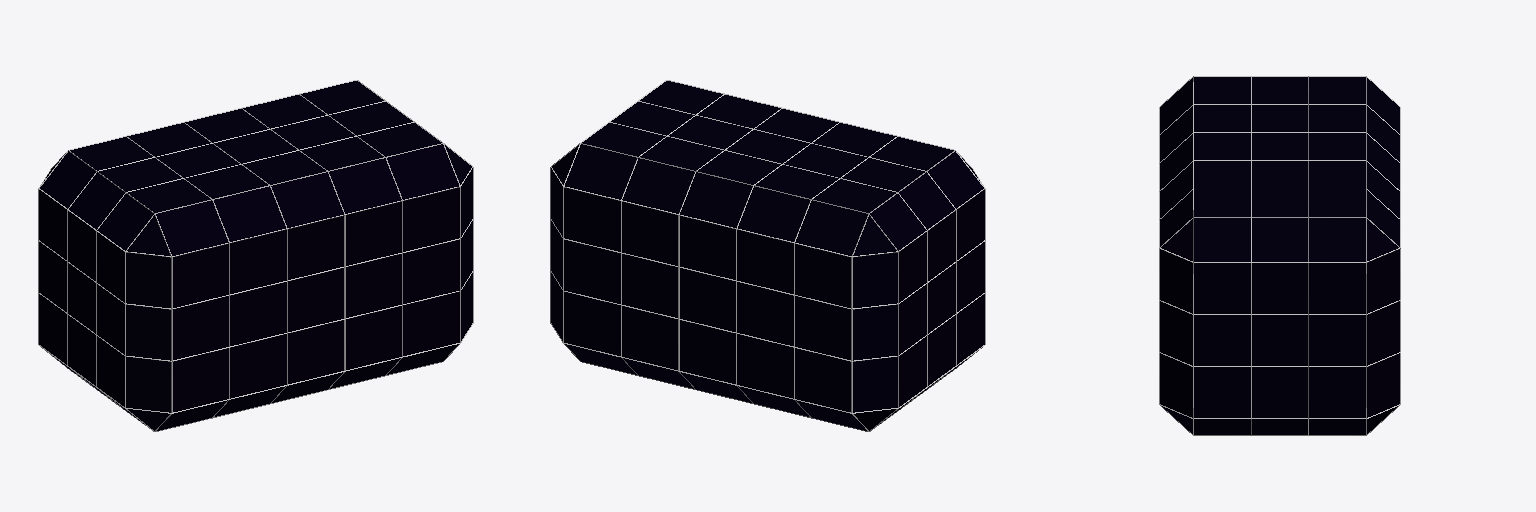
Rendered from arena.obj.
The picture shows the model from 3 angles: view 1: azimuth 30°, elevation 25°; view 2: azimuth 150°, elevation 25°; view 3: azimuth 270°, elevation 25°; orthographic projection.
Visible parts, largest first — view 1: Cube, Cube.001; view 2: Cube, Cube.001; view 3: Cube, Cube.001.
Boxes of the visible parts, x1=… form: Cube: x1=39, y1=81, x2=472, y2=430; Cube.001: x1=38, y1=80, x2=473, y2=431; Cube: x1=551, y1=81, x2=984, y2=430; Cube.001: x1=550, y1=80, x2=985, y2=431; Cube: x1=1160, y1=77, x2=1399, y2=434; Cube.001: x1=1159, y1=76, x2=1400, y2=435.
Bounding box in the file's own units: 50.16 × 30.16 × 30.16.